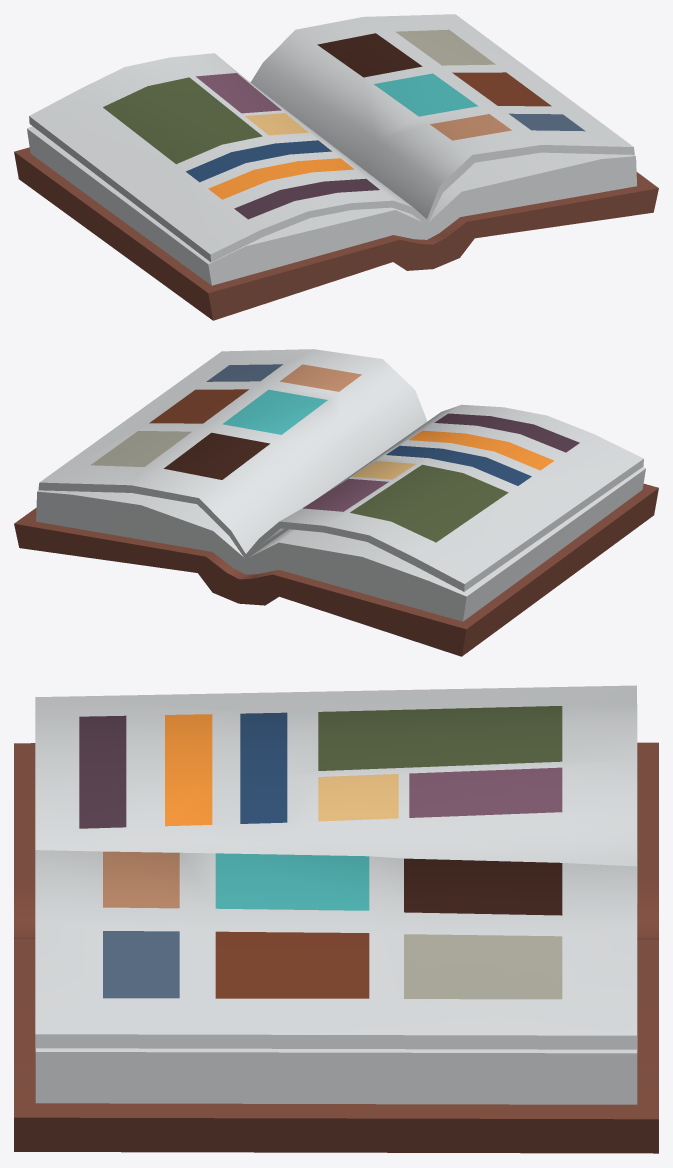
File: Book_Open_A.fbx
The picture shows the model from 3 angles, top to bottom: view 1: azimuth 30°, elevation 25°; view 2: azimuth 150°, elevation 25°; view 3: azimuth 270°, elevation 25°; orthographic projection. The views are drawn at different scales.
Parts seen in each view (by area): view 1: Book_Open_A; view 2: Book_Open_A; view 3: Book_Open_A.
Boxes of the visible parts, left/top/right/bottom form: Book_Open_A: left=14, top=14, right=658, bottom=320; Book_Open_A: left=14, top=349, right=658, bottom=656; Book_Open_A: left=14, top=685, right=658, bottom=1153.
Size of the model in its own units: 43.03 by 8.93 by 31.81.
